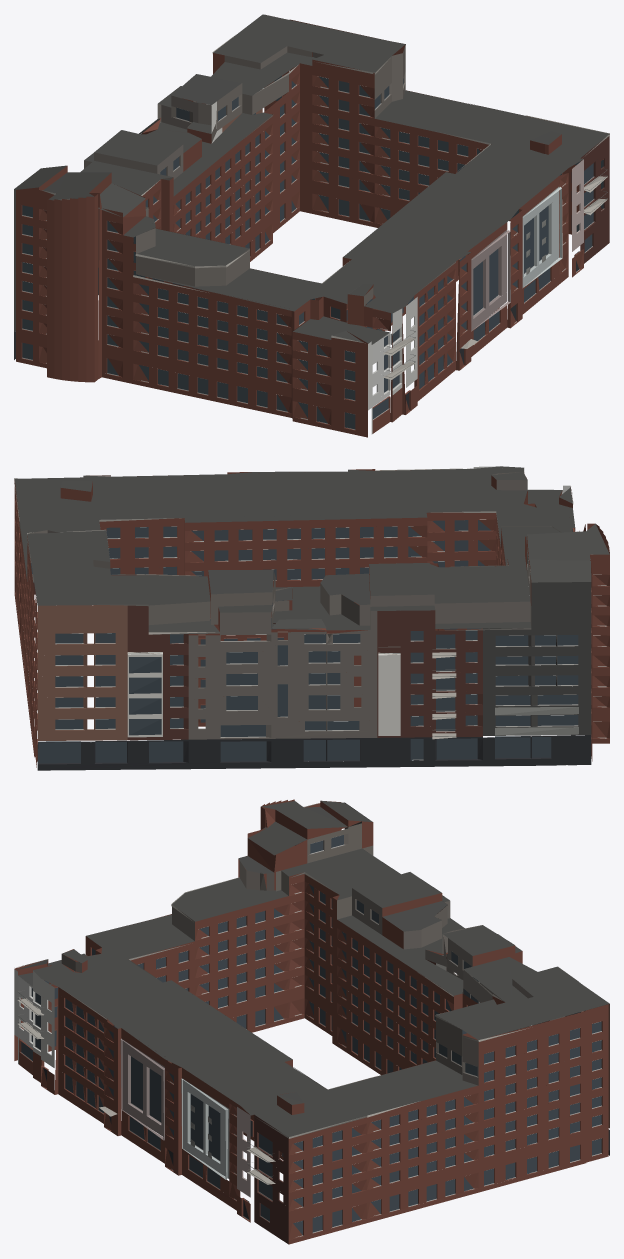
The model's file is rapenburgerstraat-4.lod1.glb.
3 views of the same model, one above another, from view 1: azimuth 30°, elevation 25°; view 2: azimuth 150°, elevation 25°; view 3: azimuth 270°, elevation 25° (orthographic). The views are drawn at different scales.
Visible parts, largest first — view 1: rapenburgerstraat-4; view 2: rapenburgerstraat-4; view 3: rapenburgerstraat-4.
Boxes of the visible parts, <box> form: rapenburgerstraat-4: <box>14,14,609,437</box>; rapenburgerstraat-4: <box>14,466,609,770</box>; rapenburgerstraat-4: <box>14,799,609,1244</box>.
Bounding box in the file's own units: 81.72 × 25.54 × 75.27.
